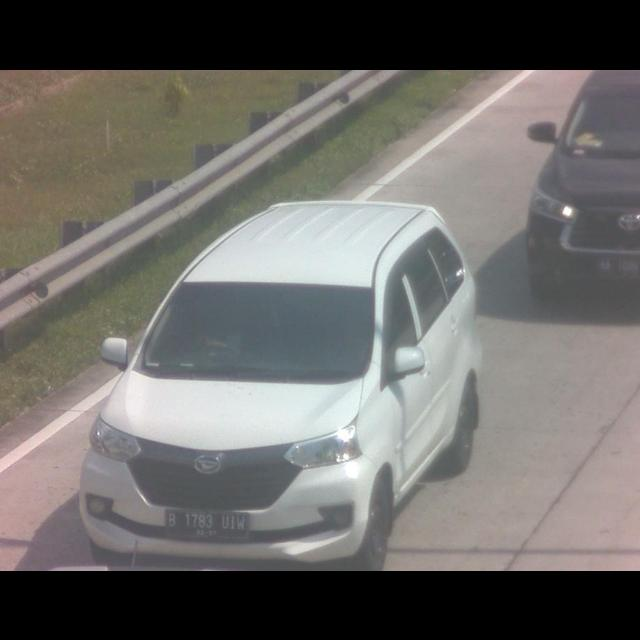plate: (164, 503, 252, 542)
